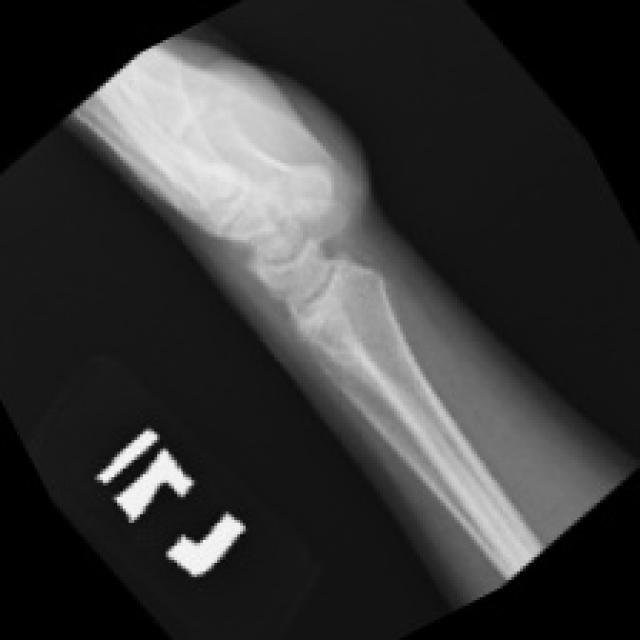fracture: (229, 218, 392, 367)
